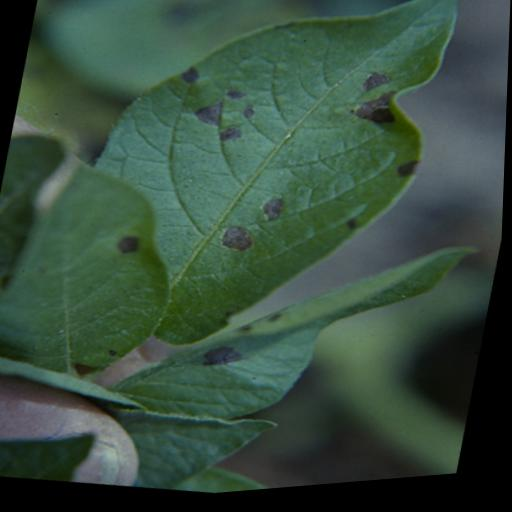Early Blight: (49, 0, 461, 396)
